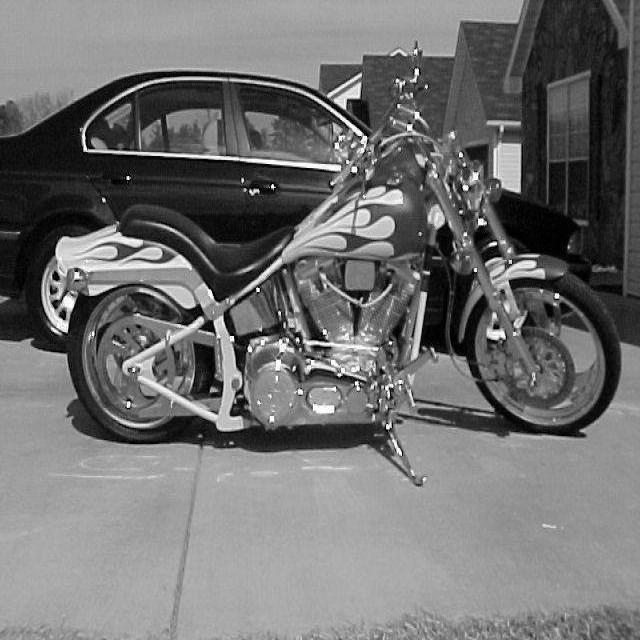Car: (0, 71, 370, 342)
Motorcycle: (56, 57, 622, 485)
